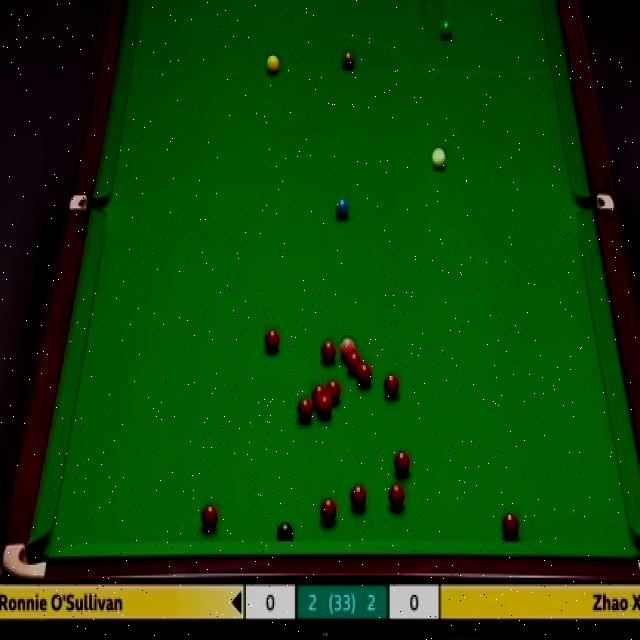black-ball: (276, 519, 294, 545)
blue-ball: (336, 199, 350, 219)
brown-ball: (341, 51, 354, 71)
green-ball: (434, 21, 449, 43)
pink-ball: (340, 335, 356, 359)
red-ball: (388, 481, 407, 511), (392, 449, 411, 478), (502, 510, 520, 538), (350, 482, 368, 510), (319, 498, 338, 524), (263, 326, 280, 354), (356, 364, 373, 391), (201, 503, 218, 529), (320, 338, 337, 364), (317, 392, 333, 418), (297, 397, 313, 422), (384, 373, 399, 398), (327, 378, 342, 403), (346, 352, 362, 372), (312, 384, 327, 403)
white-ball: (432, 146, 447, 170)
yellow-ball: (266, 51, 279, 75)
